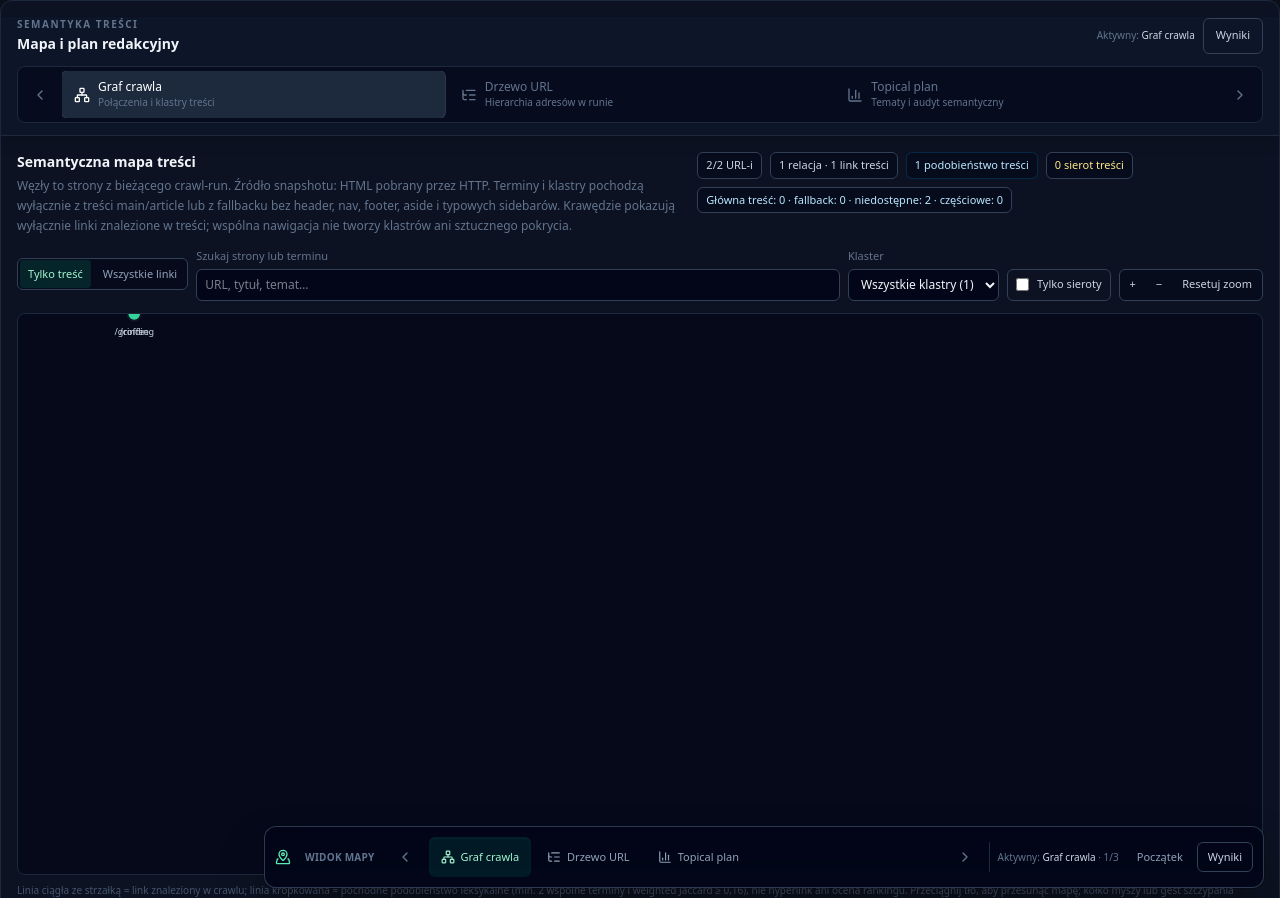
Test: CrawlArchitectureGraph › switches to the full internal link graph and persists the scope
The image size is (1280, 898).
Step 1. Click the button "Wszystkie linki" → (140, 274), box x1=95 y1=260 x2=185 y2=288
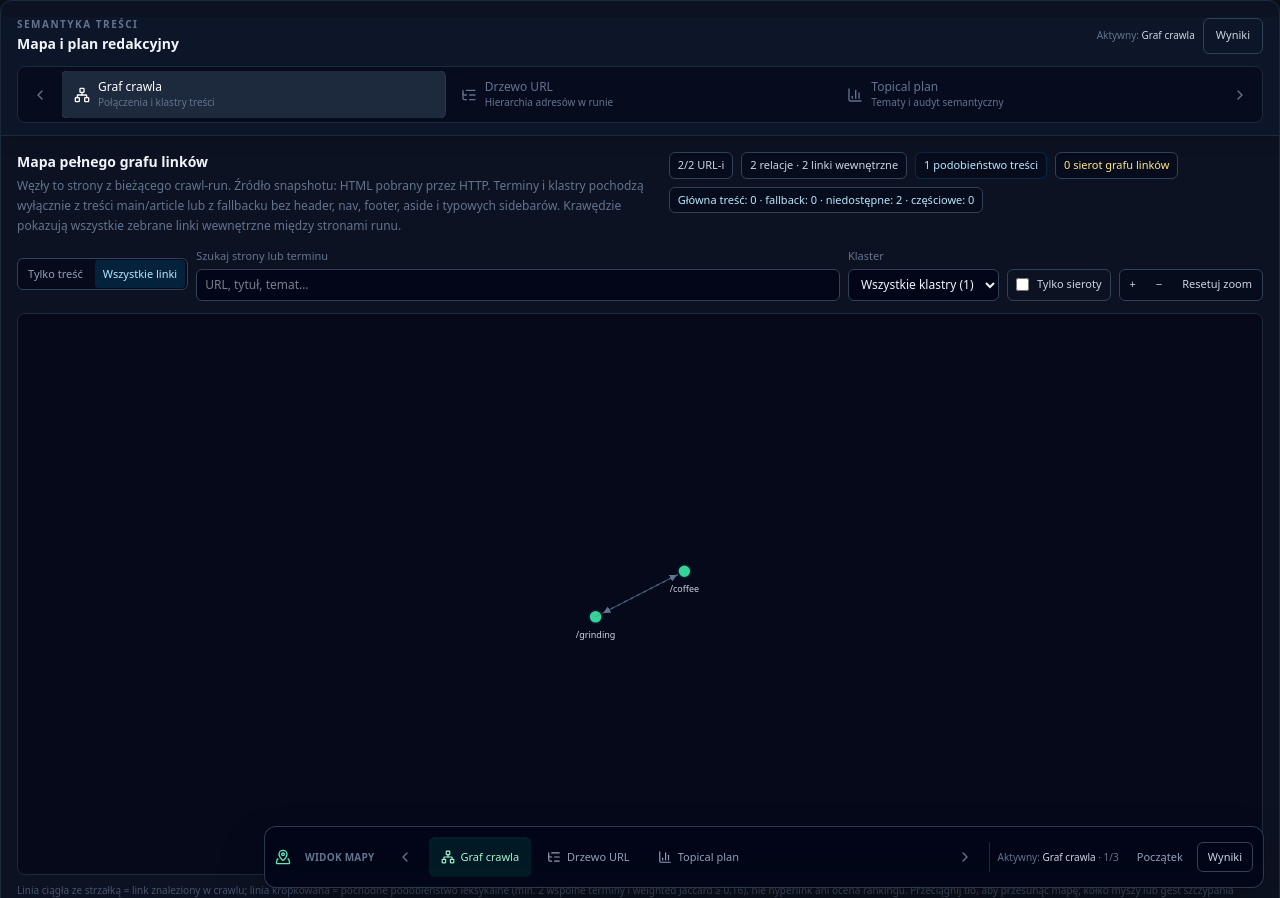
Now the text "2 relacje · 2 linki wewnętrzne" is shown, box x1=741 y1=152 x2=907 y2=178
